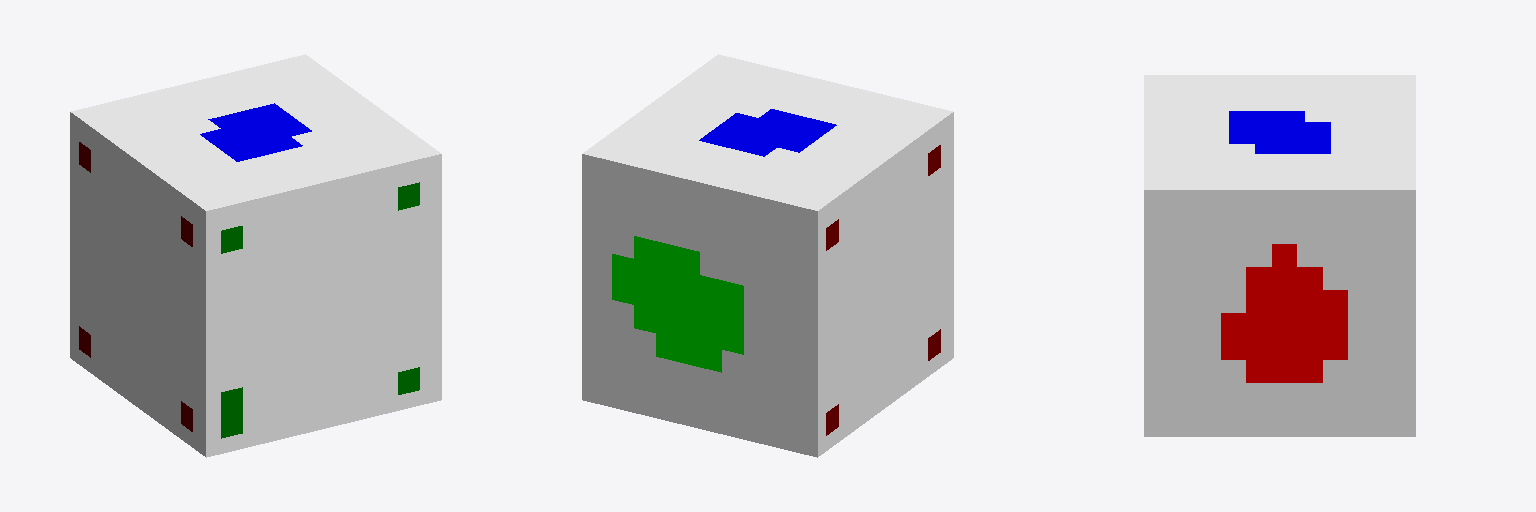
The picture shows the model from 3 angles: view 1: azimuth 30°, elevation 25°; view 2: azimuth 150°, elevation 25°; view 3: azimuth 270°, elevation 25°; orthographic projection.
Visible parts, largest first — view 1: Cube; view 2: Cube; view 3: Cube.
Boxes of the visible parts, x1=… form: Cube: x1=70, y1=54, x2=441, y2=457; Cube: x1=582, y1=54, x2=953, y2=457; Cube: x1=1144, y1=75, x2=1415, y2=436.
Bounding box in the file's own units: 1 × 1 × 1.
1 materials, 1 textured.